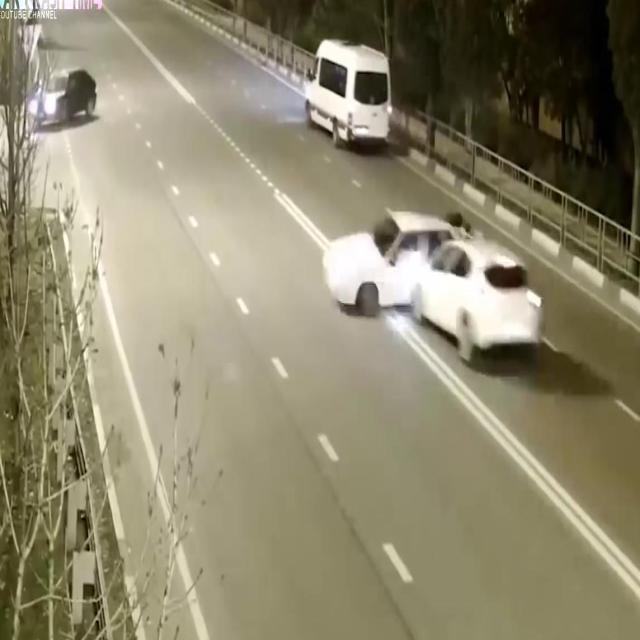accident: (312, 192, 555, 388)
